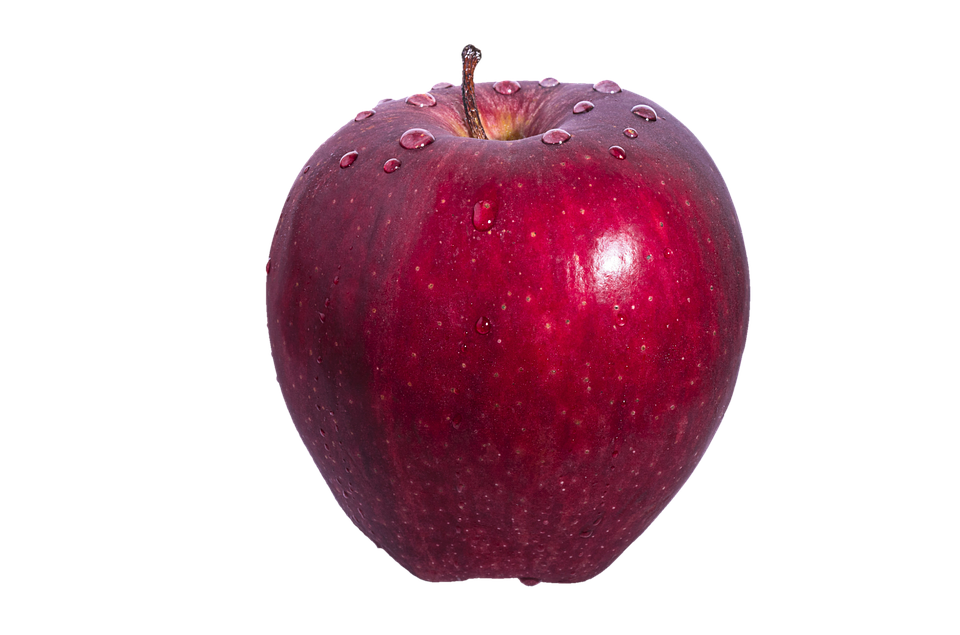apple: (261, 65, 762, 594)
